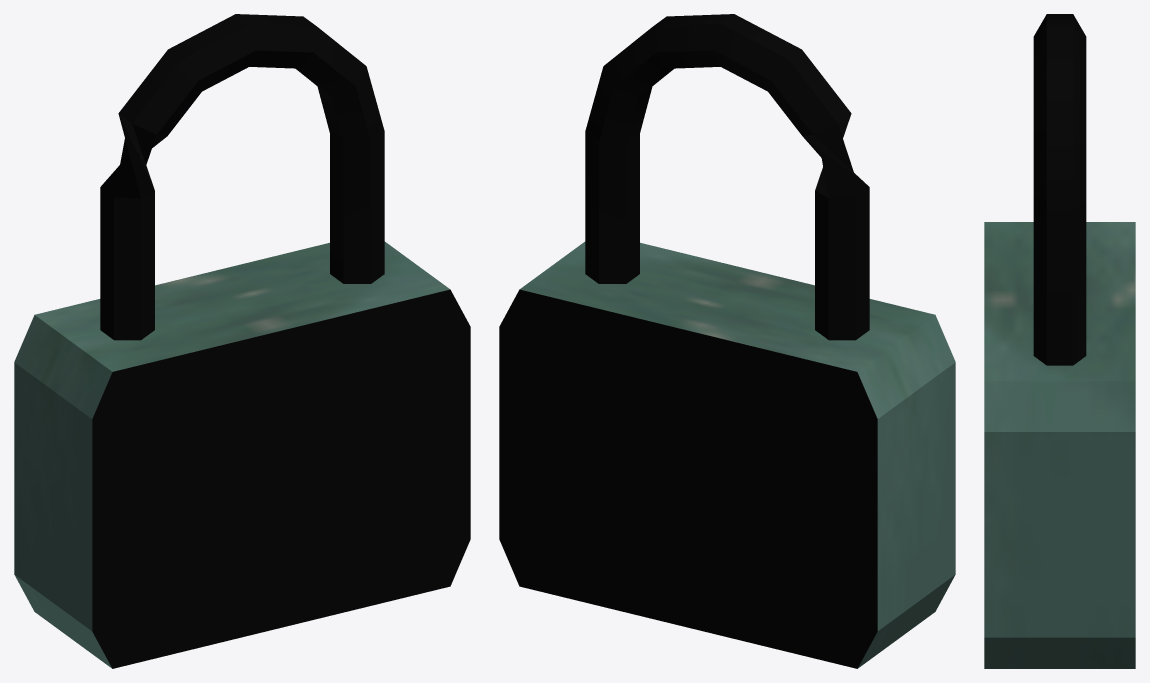
The model's file is padlock.fbx.
3 renders of one model, left to right at view 1: azimuth 30°, elevation 25°; view 2: azimuth 150°, elevation 25°; view 3: azimuth 270°, elevation 25°, orthographic. The views are drawn at different scales.
Parts seen in each view (by area): view 1: padlock, padlock_shackle; view 2: padlock, padlock_shackle; view 3: padlock, padlock_shackle.
Part boxes in pixels (<box>): padlock: <box>14,241,470,668</box>; padlock_shackle: <box>100,14,384,340</box>; padlock: <box>499,241,955,668</box>; padlock_shackle: <box>585,14,869,340</box>; padlock: <box>984,222,1135,668</box>; padlock_shackle: <box>1033,14,1086,365</box>.
Bounding box in the file's own units: 0.056 × 0.082 × 0.02.
